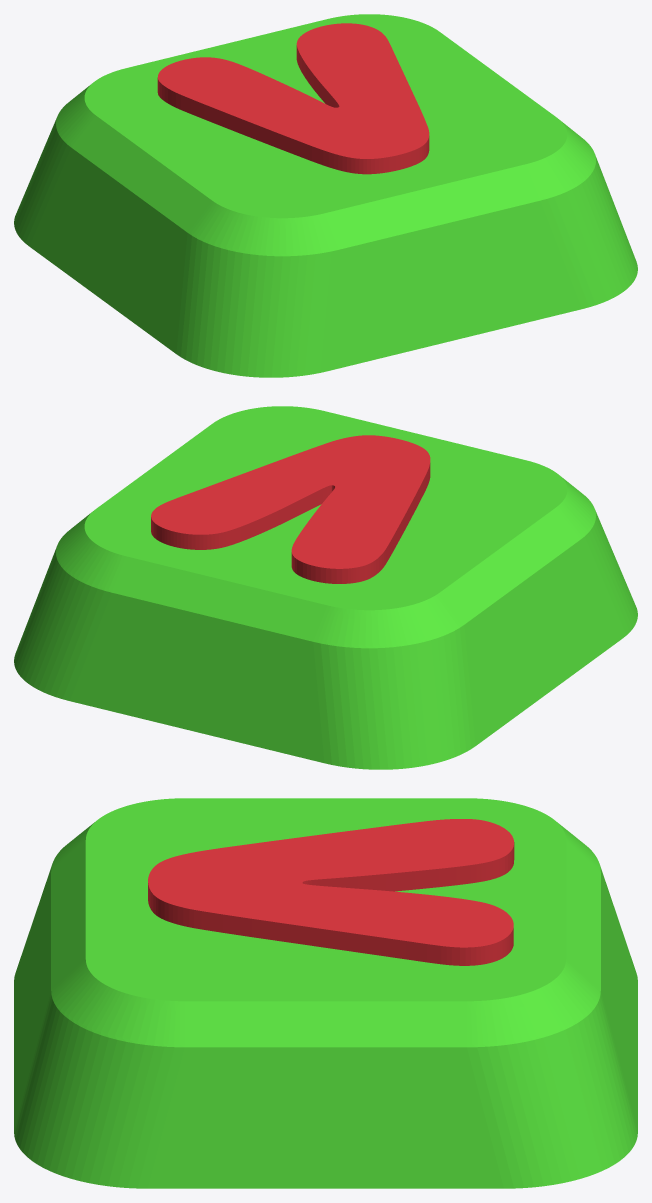
The picture shows the model from 3 angles, top to bottom: view 1: azimuth 30°, elevation 25°; view 2: azimuth 150°, elevation 25°; view 3: azimuth 270°, elevation 25°; orthographic projection. The views are drawn at different scales.
Visible parts, largest first — view 1: CAPS_V, FONT_V; view 2: CAPS_V, FONT_V; view 3: CAPS_V, FONT_V.
Part boxes in pixels (left/top/right/bottom): CAPS_V: left=14, top=14, right=637, bottom=377; FONT_V: left=157, top=23, right=429, bottom=174; CAPS_V: left=14, top=406, right=637, bottom=769; FONT_V: left=151, top=435, right=430, bottom=583; CAPS_V: left=14, top=798, right=637, bottom=1188; FONT_V: left=148, top=819, right=514, bottom=965.
Bounding box in the file's own units: 18 × 5.59 × 18.
